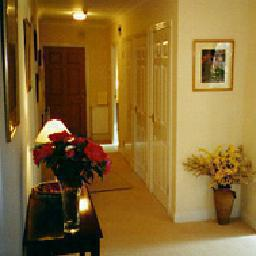Matera: (196, 146, 249, 229)
Puerta: (149, 27, 173, 209), (128, 33, 150, 179)
